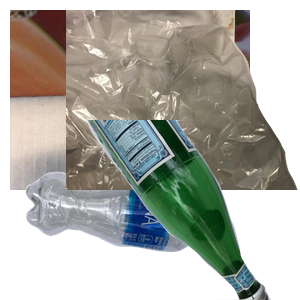cardboard: (10, 10, 250, 190)
glass: (75, 120, 300, 300)
plastic: (23, 169, 243, 300)
trash: (66, 10, 300, 190)
